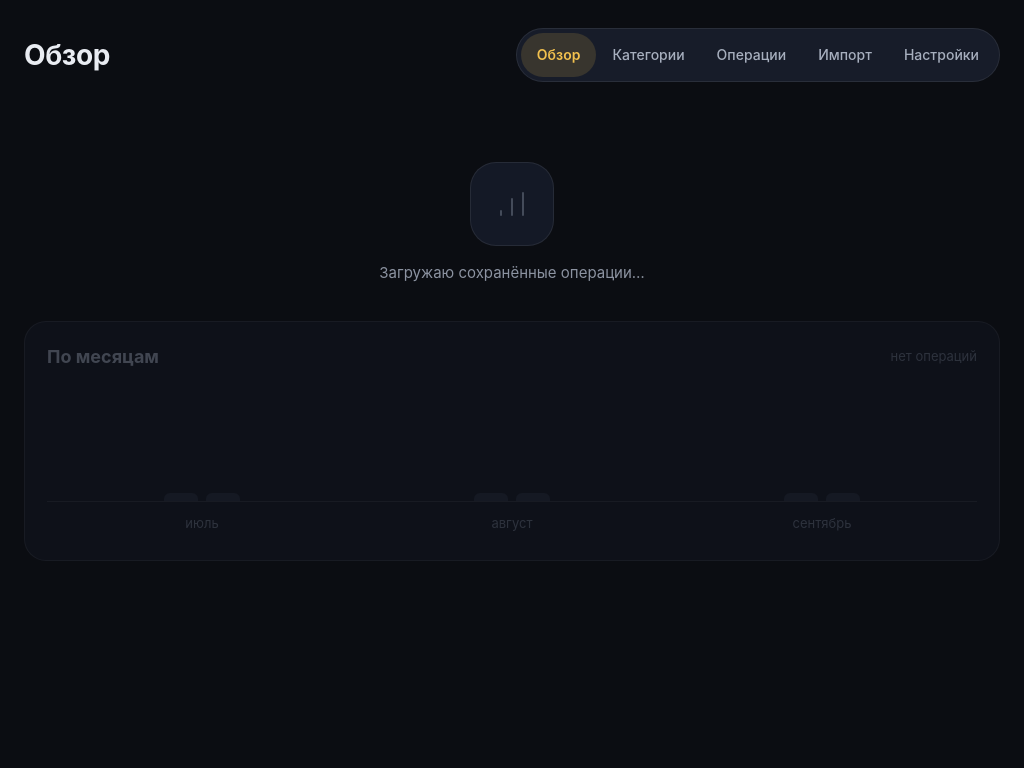
Test: App: первая загрузка из хранилища не гоняется с действиями человека › вкладка, выбранная до окончания загрузки, не перебивается переходом на обзор
Click the button "Категории": (649, 55) [596,33,701,77]
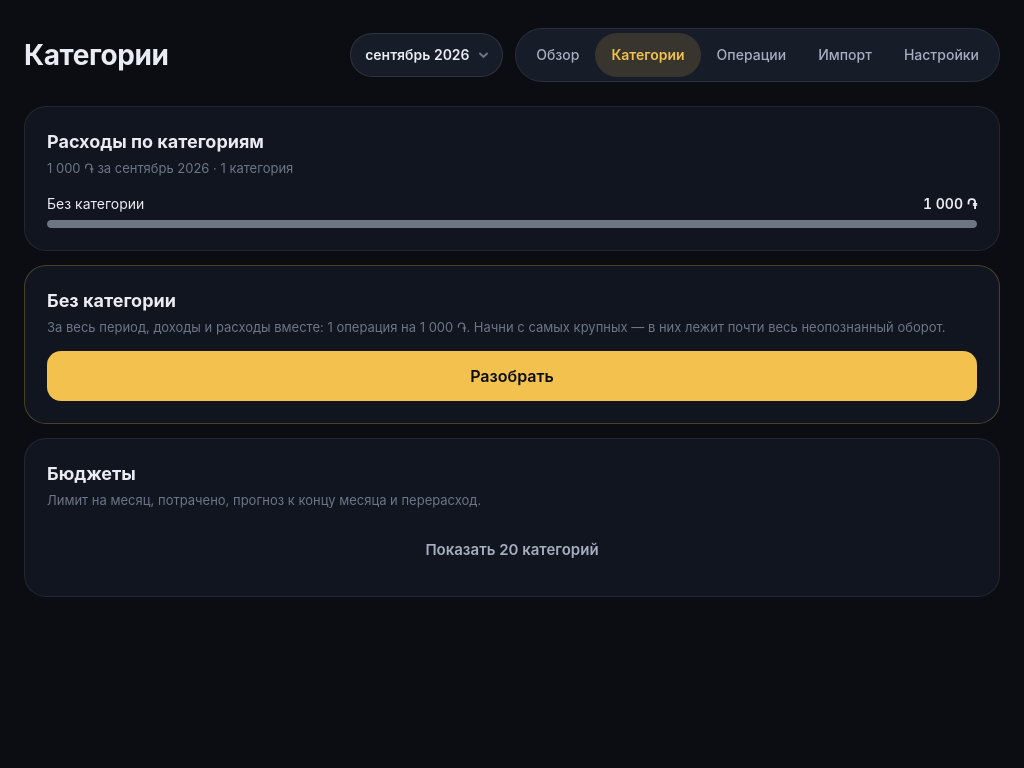
Expected: the element with test id "categories-heading" is shown, [47,131,293,176]
